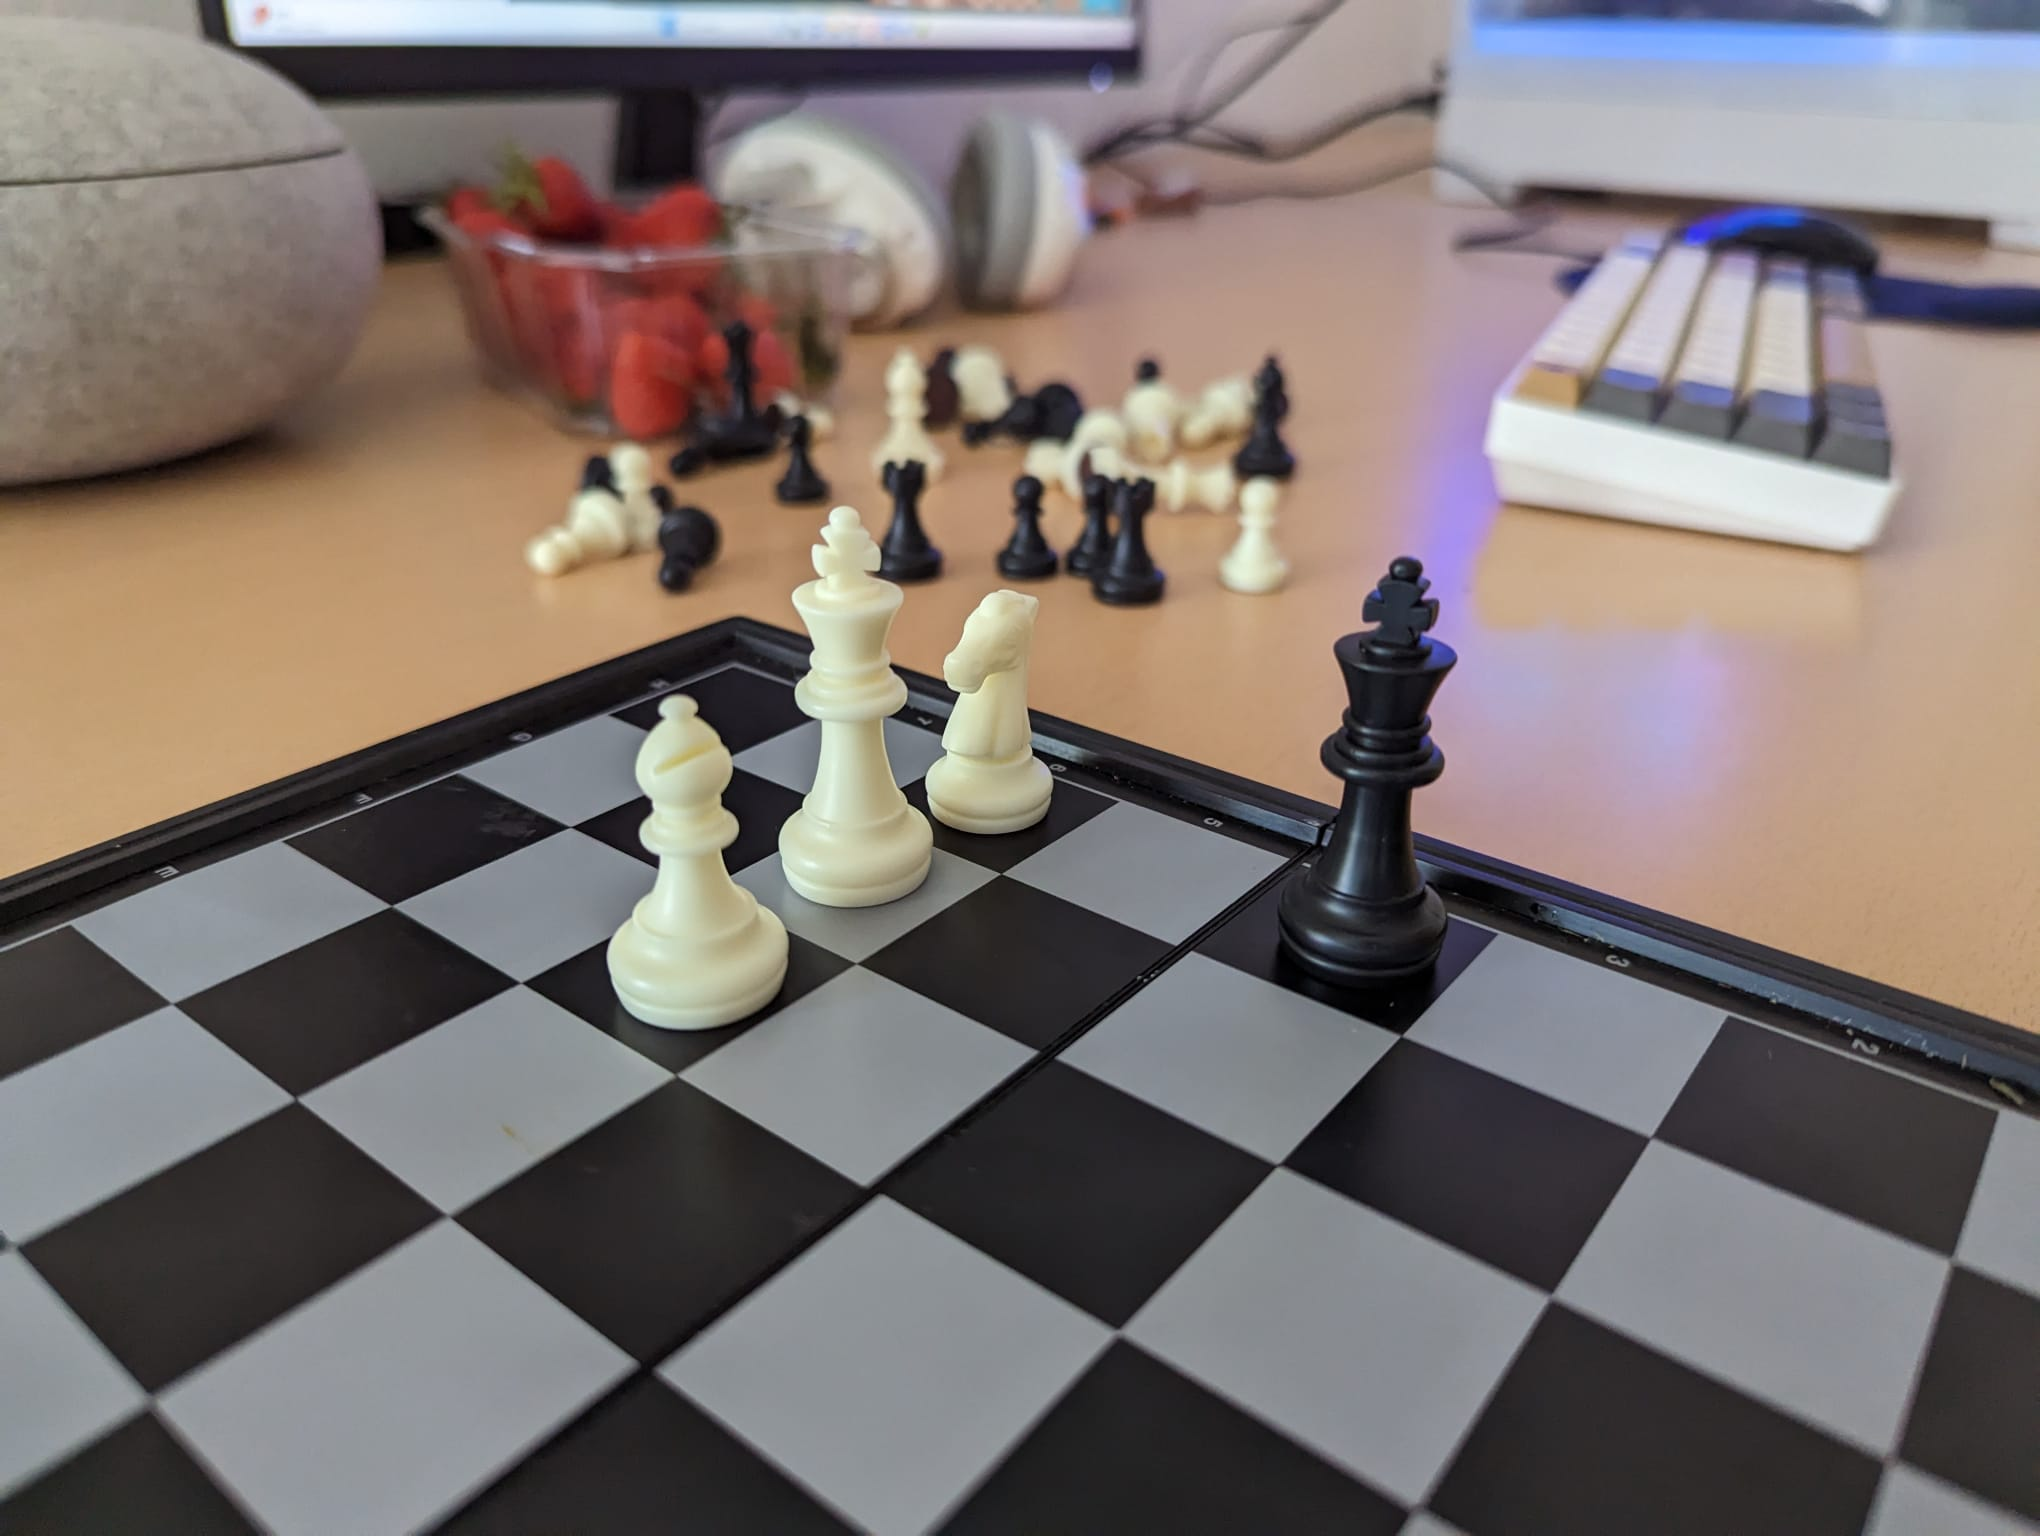BK: (1279, 536, 1463, 983)
WB: (603, 694, 790, 1029)
WK: (784, 494, 937, 908)
